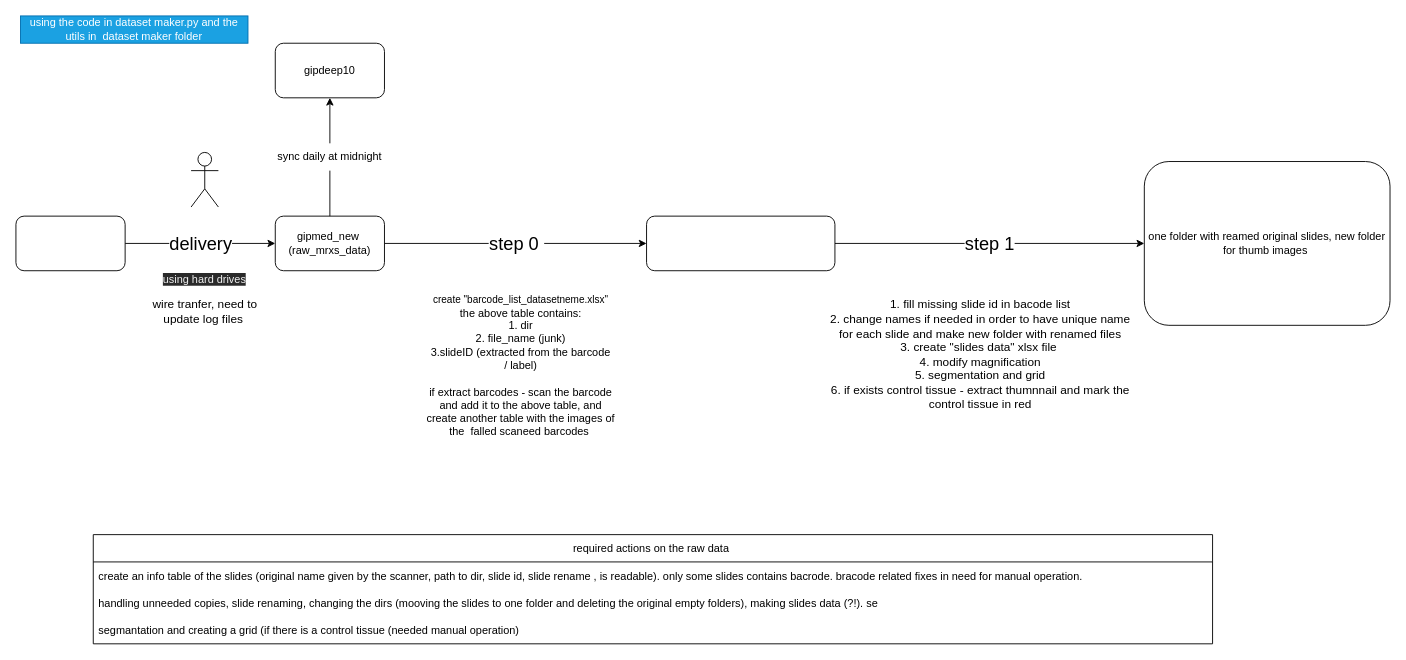
Image size: 1406x660. Some labels were removed from this diagram. Here are the shapes that lost their labels. From the top down, the centre of each, then its label:
pixel 70 243: BCF
pixel 740 243: raw data and dir + "barcode_list_datasetneme.xlsx" + "barcode_list_images.xlsx"
